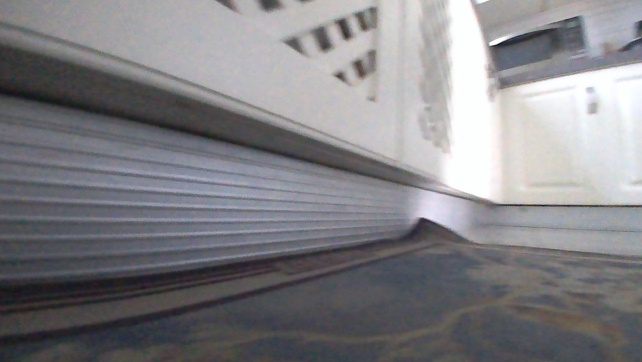blanket: (3, 214, 641, 361)
cupboard: (1, 0, 641, 285)
